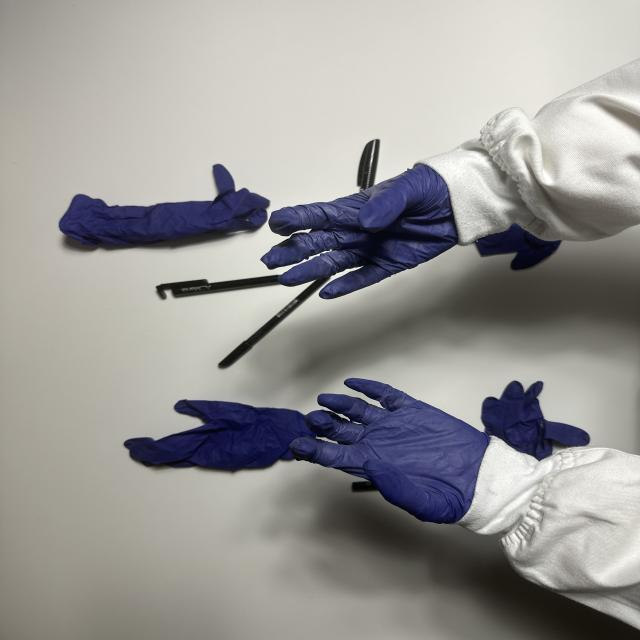gloves_contaminated: (290, 378, 489, 523), (261, 164, 458, 299)
